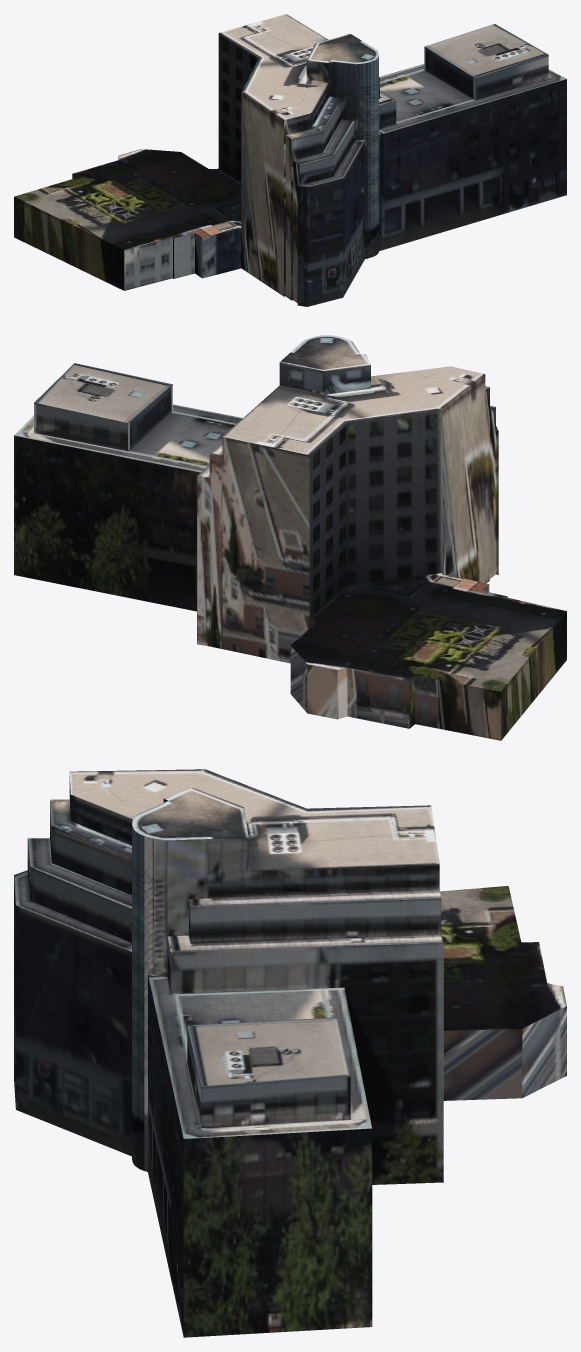
The picture shows the model from 3 angles, top to bottom: view 1: azimuth 30°, elevation 25°; view 2: azimuth 150°, elevation 25°; view 3: azimuth 270°, elevation 25°; orthographic projection. The views are drawn at different scales.
Parts seen in each view (by area): view 1: Z_UP; view 2: Z_UP; view 3: Z_UP.
Part boxes in pixels (x1,y1,x2,y2): Z_UP: (14,14,566,306); Z_UP: (14,335,566,740); Z_UP: (14,769,566,1337).
Bounding box in the file's own units: 65.81 × 26.9 × 40.24.
Materials: 2 (1 with a texture image).
